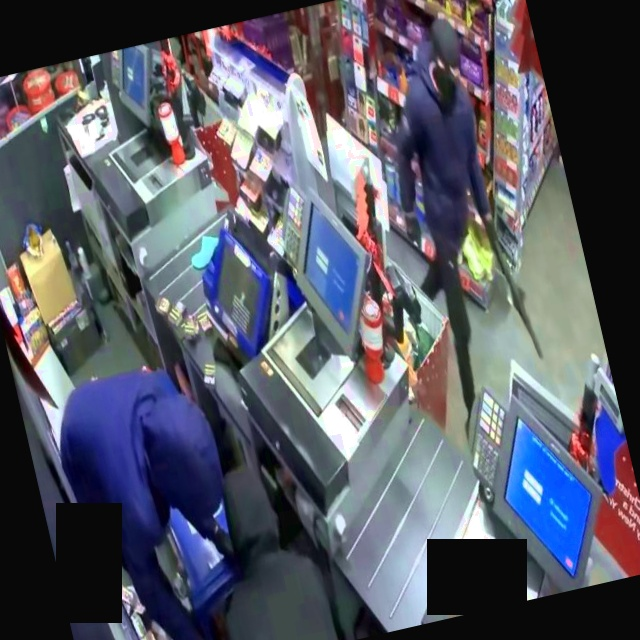gun: (473, 201, 553, 366)
